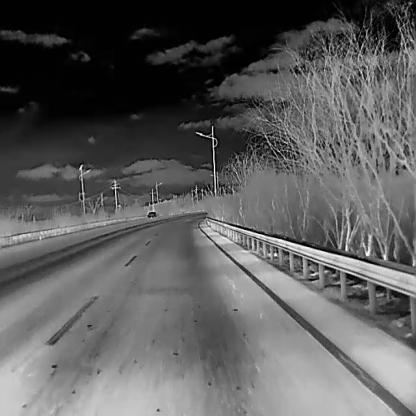car: (146, 210, 158, 218)
